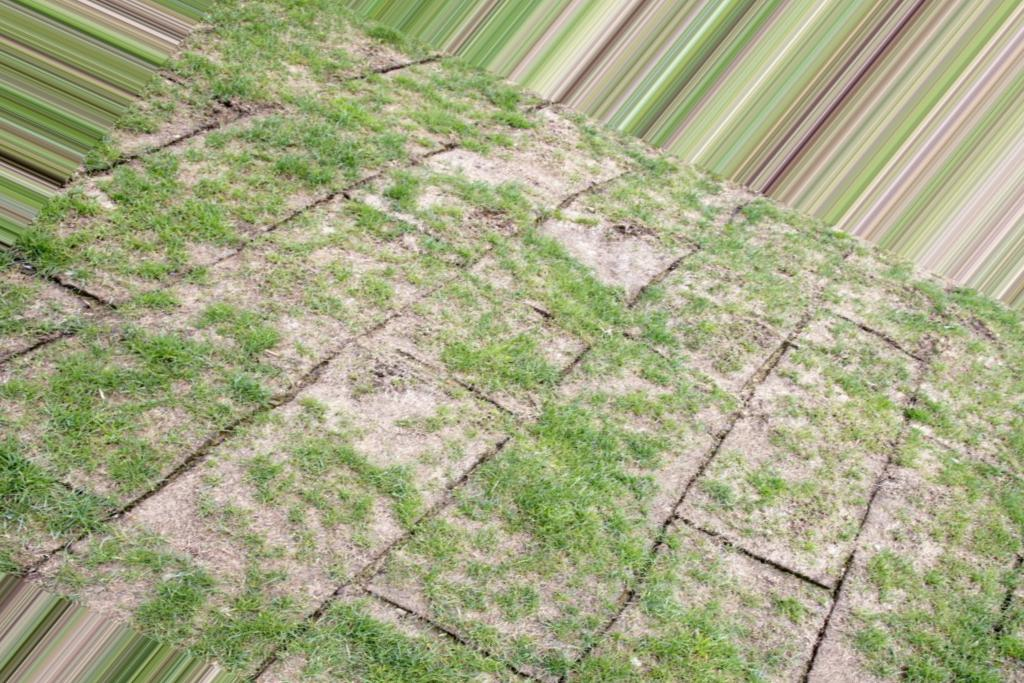patch: (363, 358, 458, 477), (740, 429, 815, 475), (292, 318, 338, 379), (608, 233, 667, 274), (456, 147, 490, 204), (783, 535, 823, 577), (177, 512, 210, 558)
